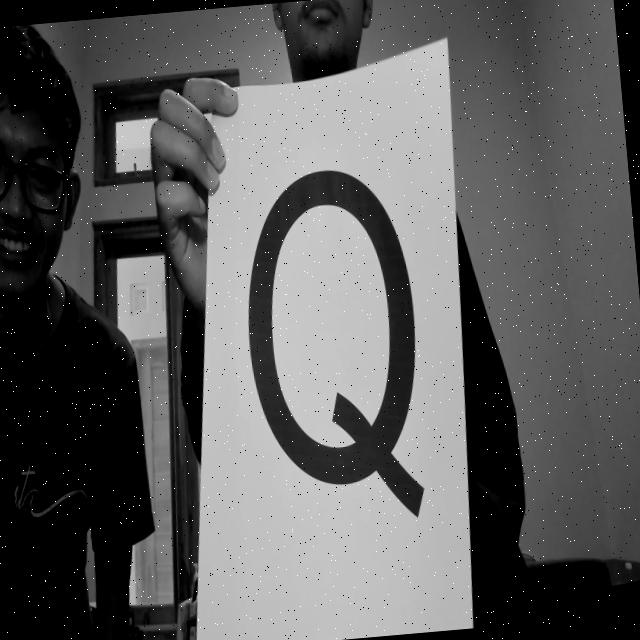q: (212, 129, 462, 558)
